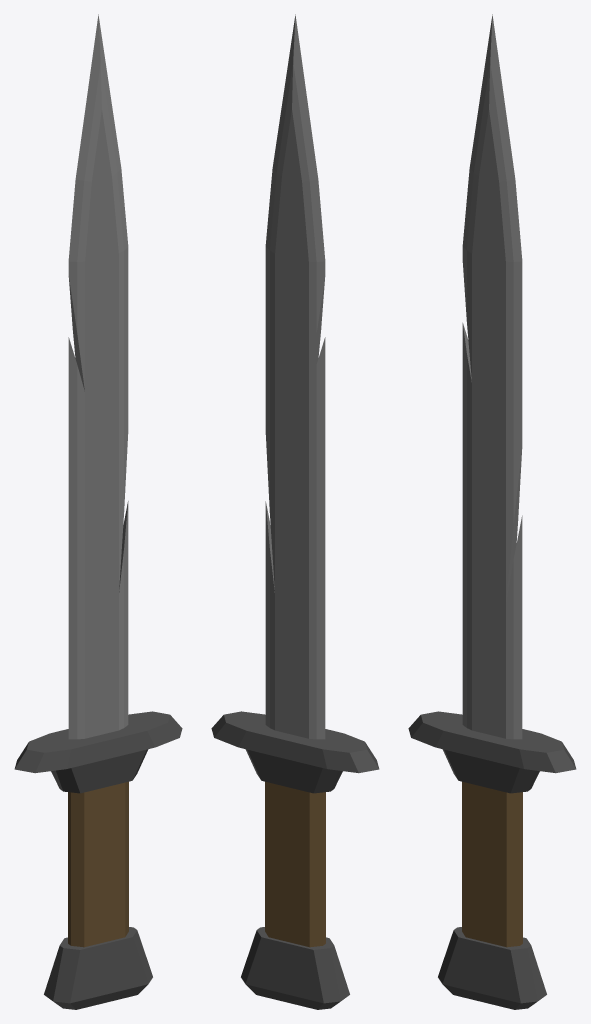
File: Sword.fbx
3 renders of one model, left to right at view 1: azimuth 30°, elevation 25°; view 2: azimuth 150°, elevation 25°; view 3: azimuth 330°, elevation 25°, orthographic.
Visible parts, largest first — view 1: Sword; view 2: Sword; view 3: Sword.
Part boxes in pixels (x1,y1,x2,y2): Sword: (14,14,182,1009); Sword: (211,14,379,1009); Sword: (408,14,576,1009).
Size of the model in its own units: 45.28 by 253 by 11.86.
